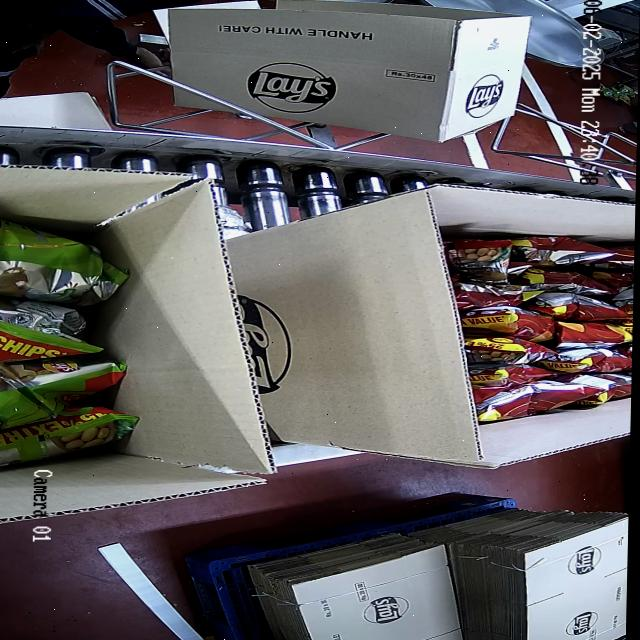MASALA: (446, 236, 635, 417)
YOGURT_HERB: (0, 209, 145, 458)
